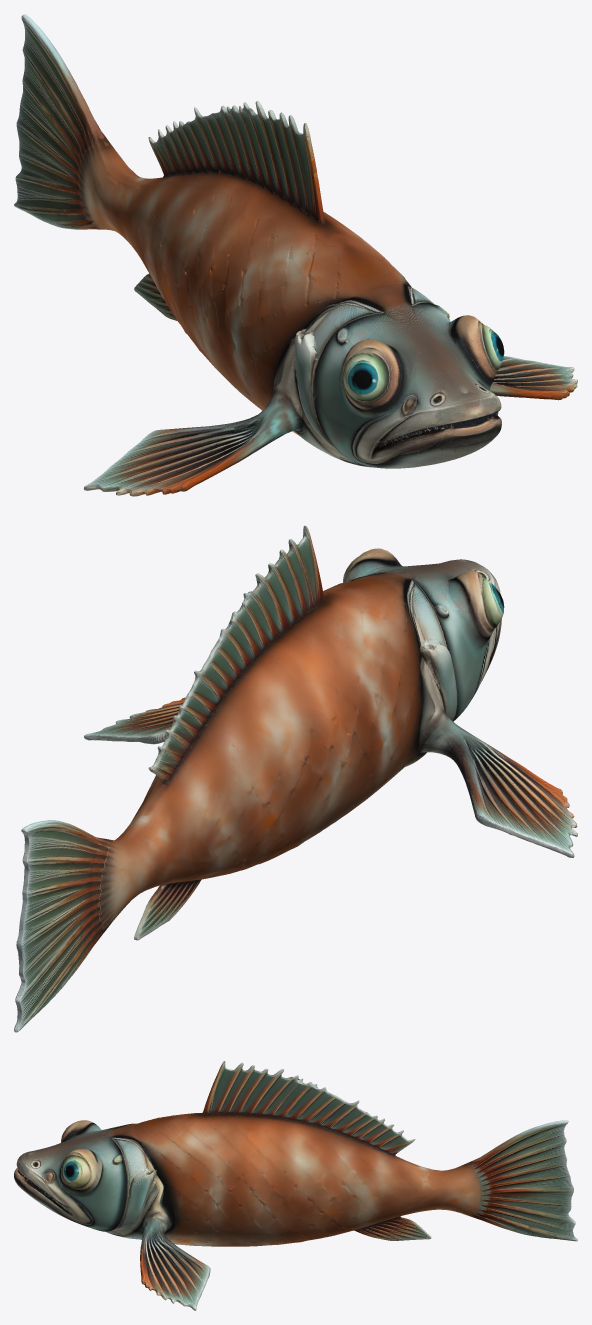
File: fish_miller_flounder.glb
3 views of the same model, one above another, from view 1: azimuth 30°, elevation 25°; view 2: azimuth 150°, elevation 25°; view 3: azimuth 270°, elevation 25° (orthographic). The views are drawn at different scales.
Size of the model in its own units: 1.16 by 0.6783 by 1.9.
Materials: 1 (1 with a texture image).
